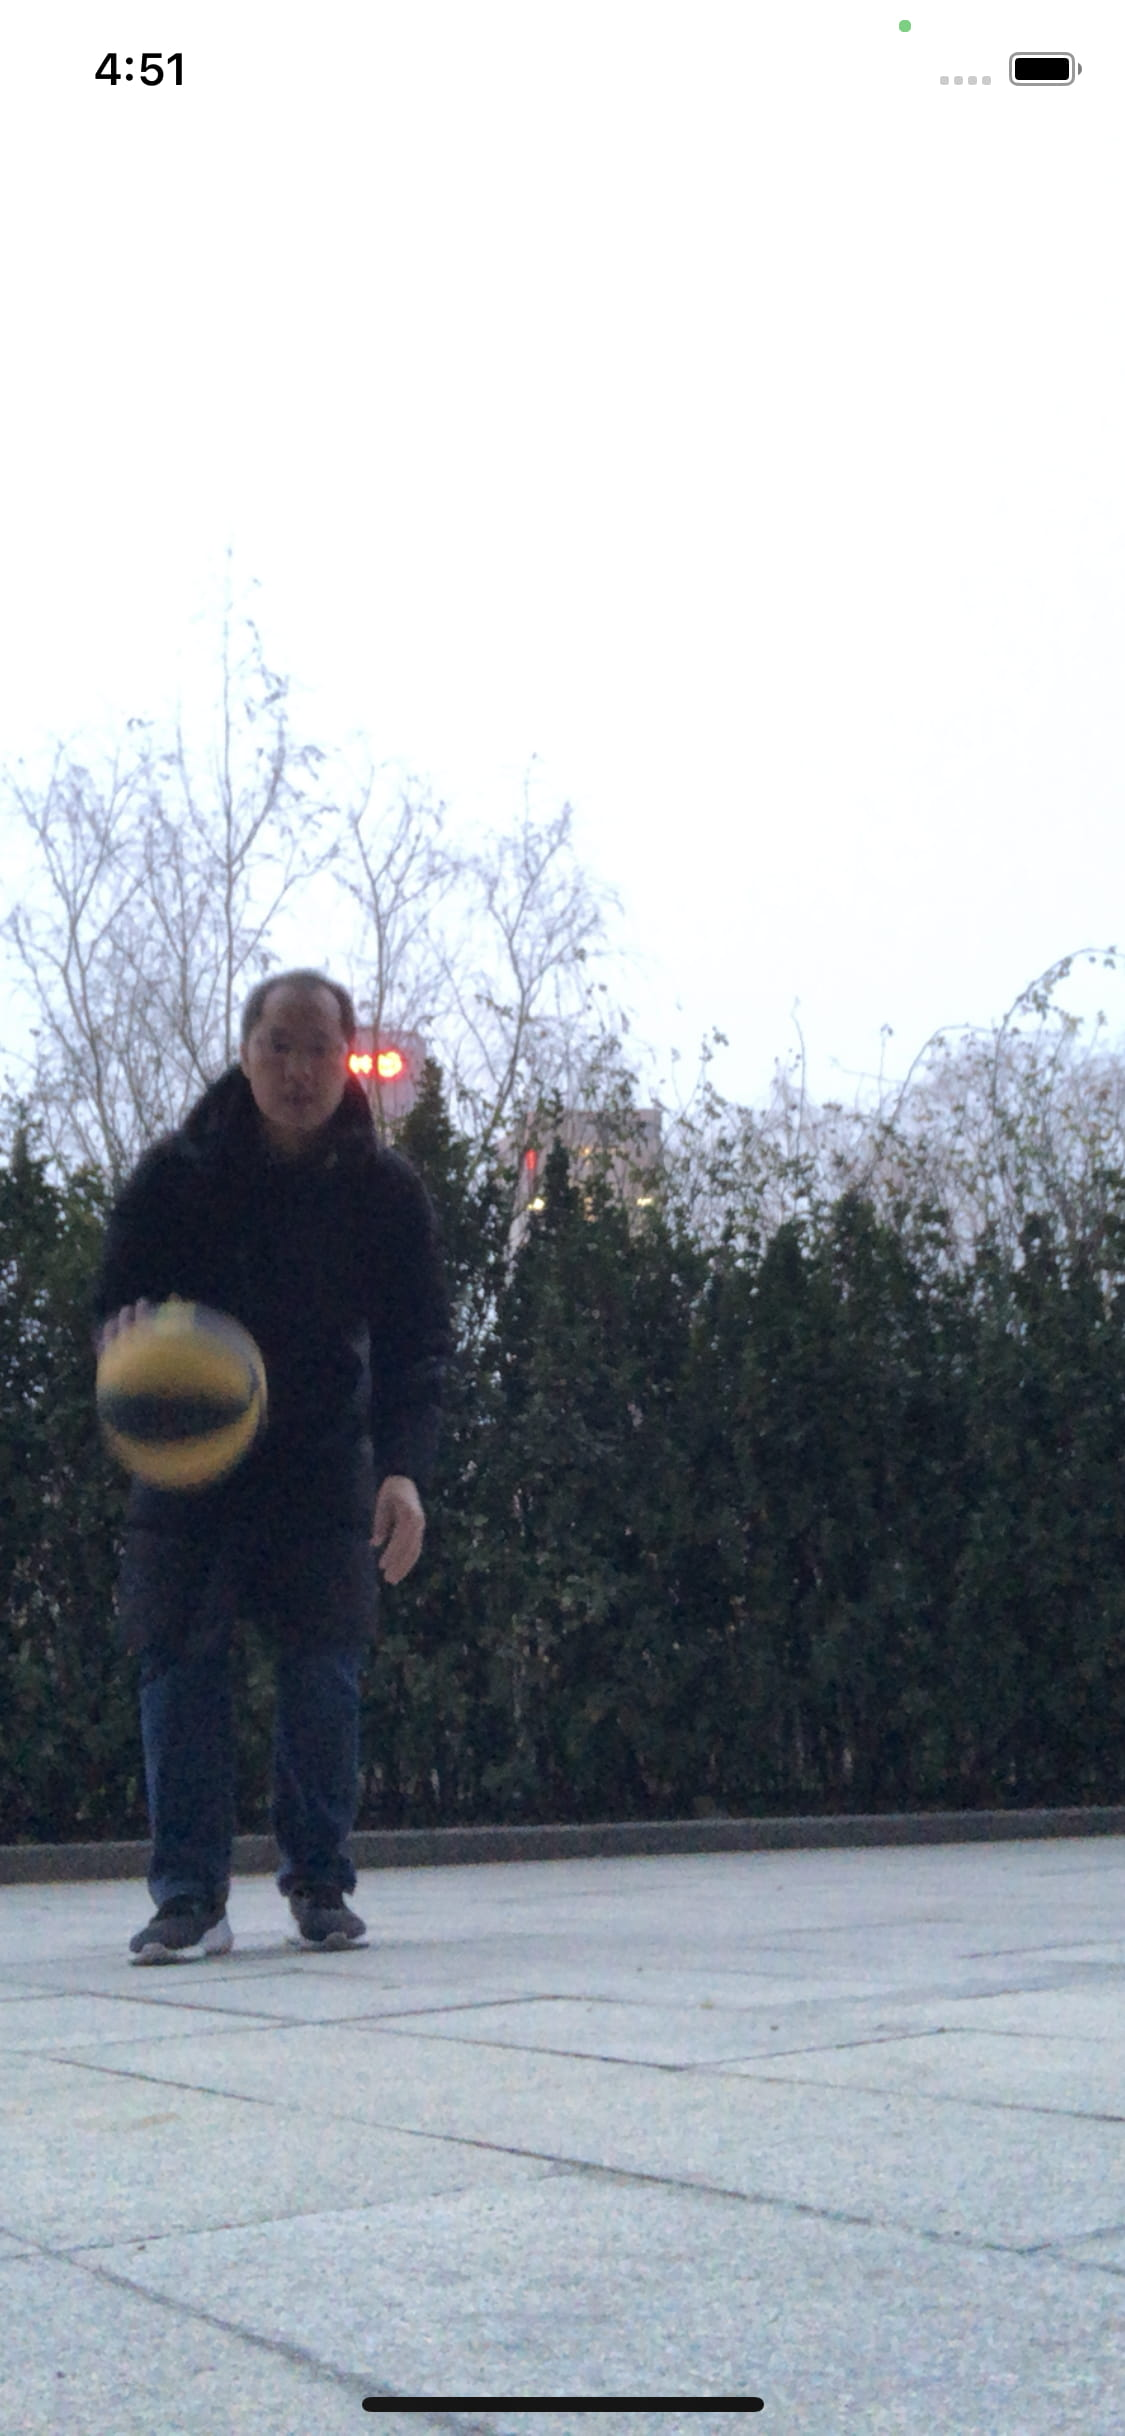ball: (89, 1302, 275, 1491)
